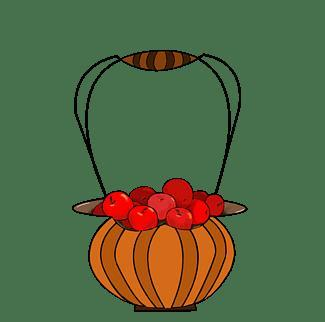apple: (103, 190, 133, 220), (129, 205, 158, 231), (167, 208, 193, 228)
